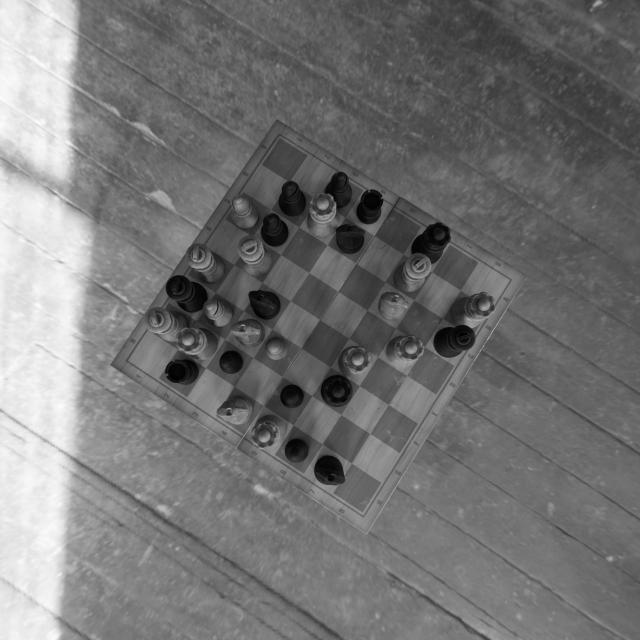chessboard: (125, 134, 511, 515)
